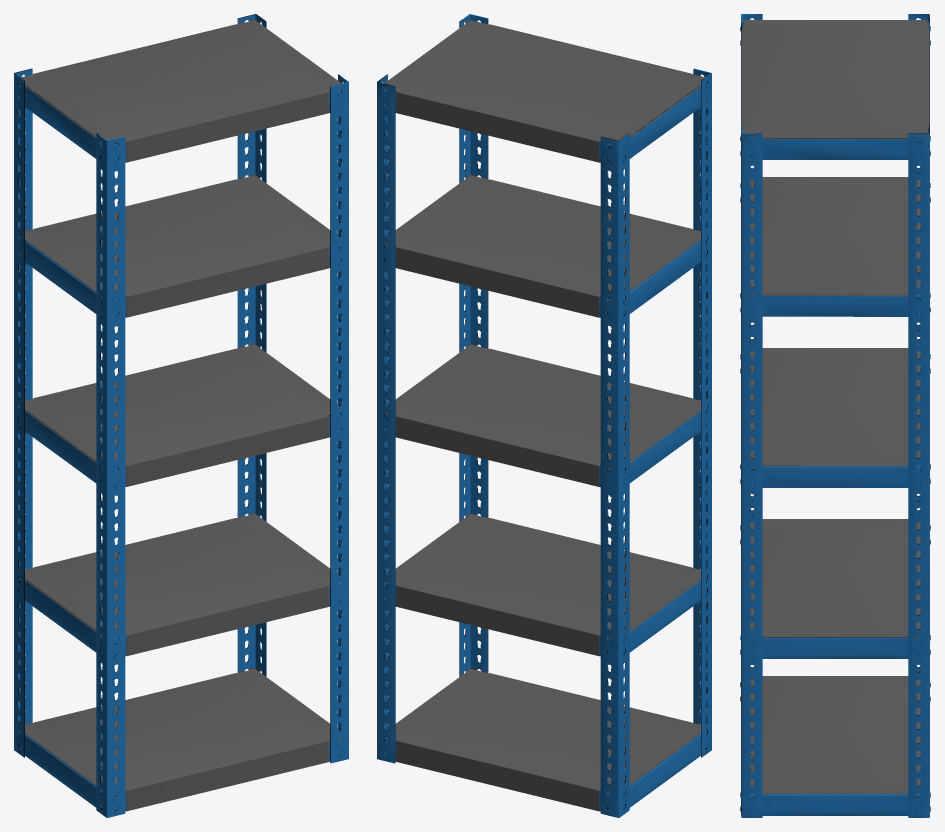
File: shelve_steel_heavyduty_a06.glb
3 renders of one model, left to right at view 1: azimuth 30°, elevation 25°; view 2: azimuth 150°, elevation 25°; view 3: azimuth 270°, elevation 25°, orthographic.
Parts seen in each view (by area): view 1: shelve_steel_heavyduty_a06_lod1; view 2: shelve_steel_heavyduty_a06_lod1; view 3: shelve_steel_heavyduty_a06_lod1.
Part boxes in pixels (<box>): shelve_steel_heavyduty_a06_lod1: <box>14,14,348,817</box>; shelve_steel_heavyduty_a06_lod1: <box>377,14,711,817</box>; shelve_steel_heavyduty_a06_lod1: <box>740,14,930,817</box>.
Bounding box in the file's own units: 0.9196 × 2.44 × 0.6148.
Materials: 1 (1 with a texture image).
